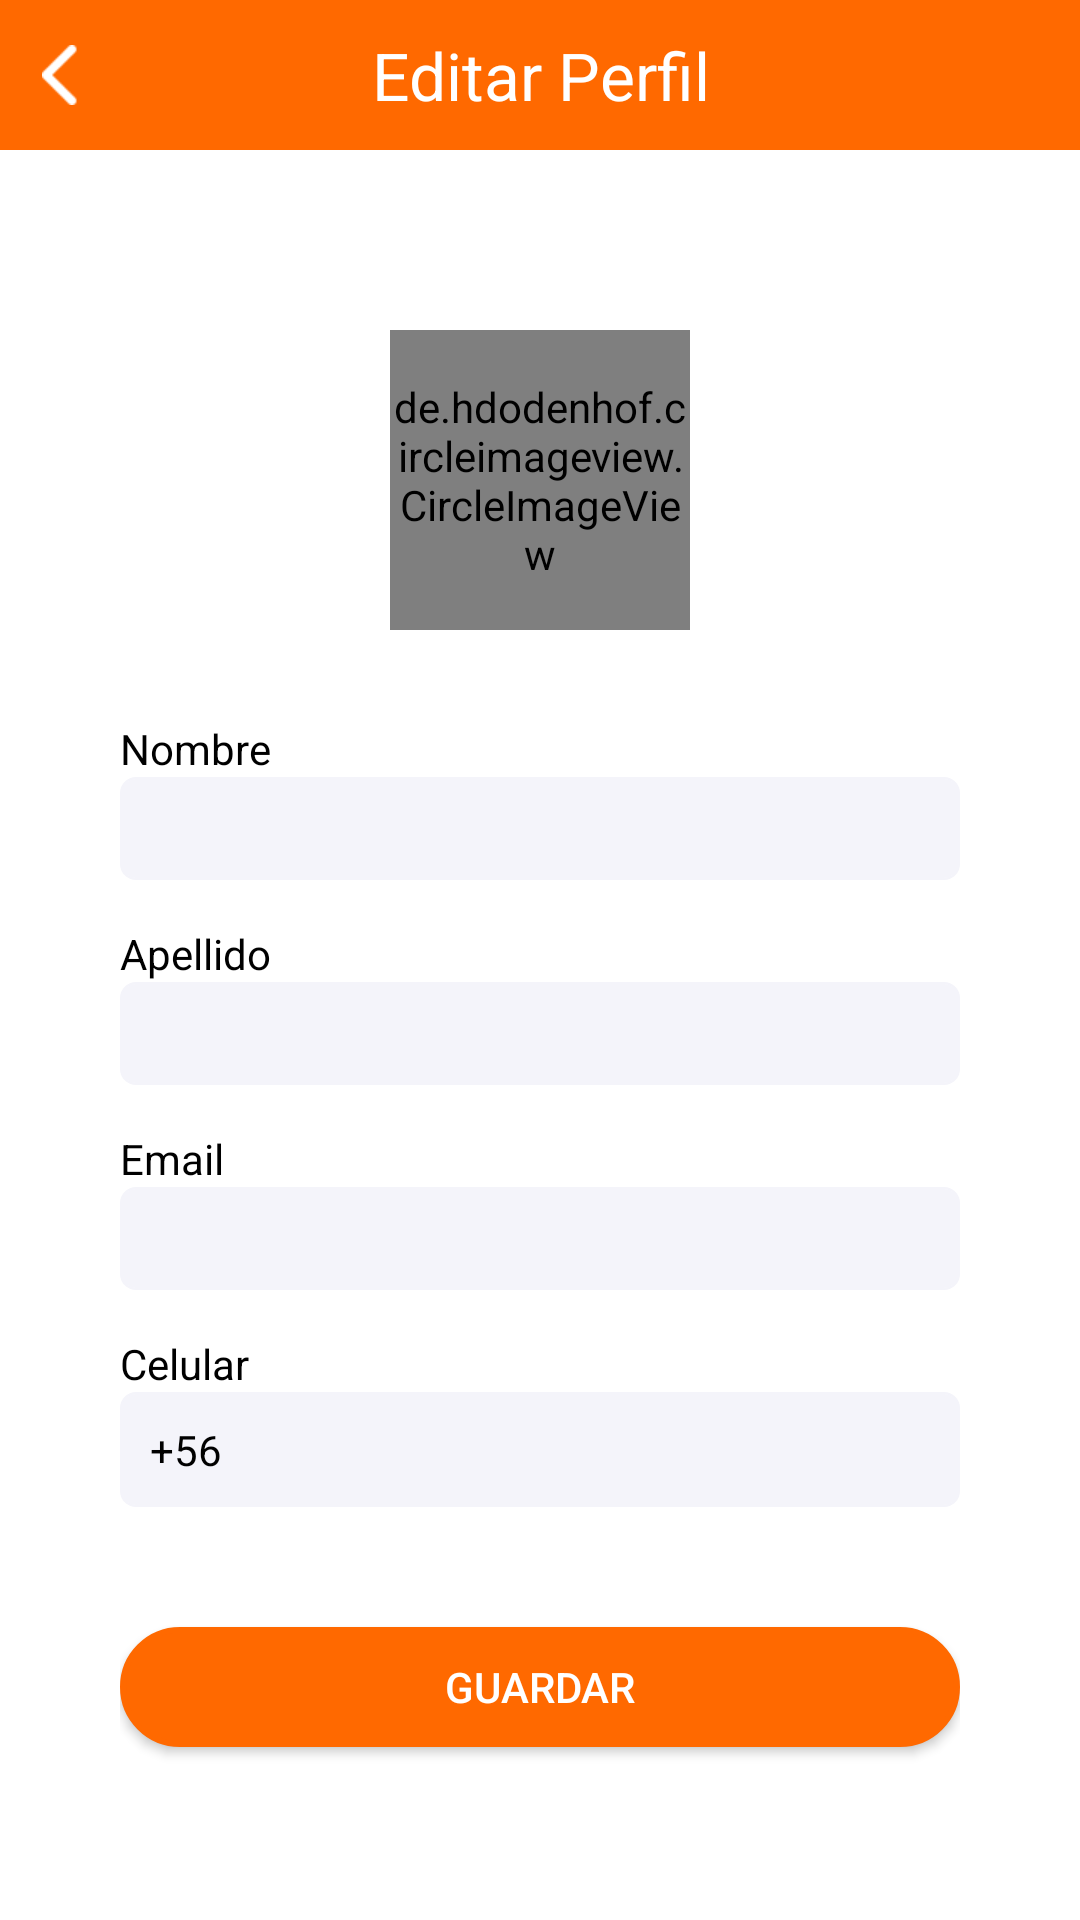

Locate icon controls on the screen. Image size 1080px x 1920px, boxes as (x1, y1, x2, y2).
back: (42, 45, 77, 105)
